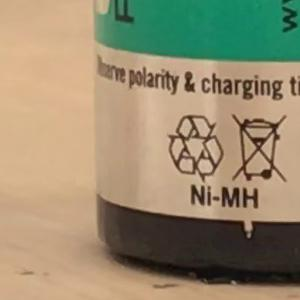NI-MH: (181, 177, 268, 216)
